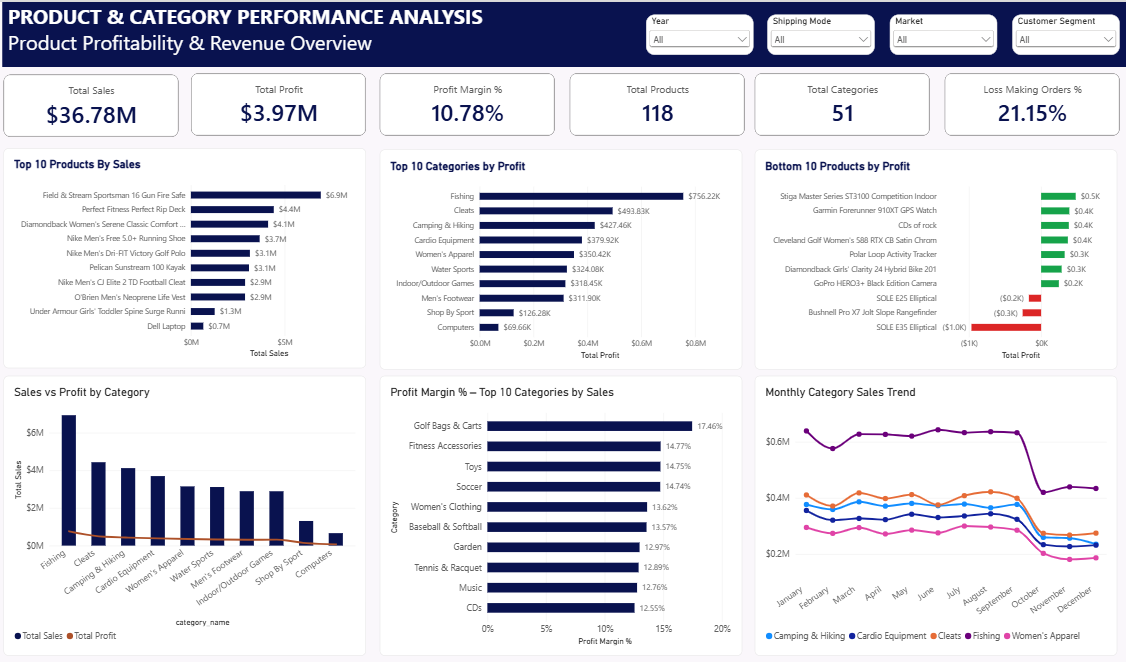

This screenshot's page, from the dashboard's own definition file:
{"tool":"powerbi","page":{"name":"Product & Category Performance","canvas":[1920,1080],"ordinal":2},"visuals":[{"type":"textbox","box":[10.8,0,1908.8,103.9],"z":0},{"type":"cardVisual","fields":{"Data":["supply_chain.Total Sales"]},"box":[11.1,115,280,100],"z":1000},{"type":"cardVisual","fields":{"Data":["supply_chain.Total Profit"]},"box":[311.6,114.7,280,100],"z":2000},{"type":"cardVisual","fields":{"Data":["supply_chain.Profit Margin %"]},"box":[614.6,114.7,280,100],"z":3000},{"type":"cardVisual","fields":{"Data":["supply_chain.Total Categories"]},"box":[1214.1,114.7,280,100],"z":4000},{"type":"cardVisual","fields":{"Data":["supply_chain.Loss_Making Orders %"]},"box":[1517.1,114.7,280,100],"z":5000},{"type":"cardVisual","fields":{"Data":["supply_chain.Total Products"]},"box":[917.6,114.7,280,100],"z":6000},{"type":"slicer","fields":{"Values":["supply_chain.Order Year"]},"box":[1041,19.5,172.3,64.6],"z":7000},{"type":"slicer","fields":{"Values":["supply_chain.shipping_mode"]},"box":[1233.6,19.5,172.3,64.6],"z":8000},{"type":"slicer","fields":{"Values":["supply_chain.market"]},"box":[1430.5,19.5,172.3,64.6],"z":9000},{"type":"slicer","fields":{"Values":["supply_chain.customer_segment"]},"box":[1625.3,19.5,172.3,64.6],"z":10000},{"type":"clusteredBarChart","title":"Top 10 Products By Sales","fields":{"Category":["supply_chain.product_name"],"Y":["supply_chain.Total Sales"]},"box":[11.6,234.8,579.7,352.2],"z":17001},{"type":"clusteredBarChart","title":"Top 10 Categories by Profit","fields":{"Category":["supply_chain.category_name"],"Y":["supply_chain.Total Profit"]},"box":[614.5,236.2,579.7,352.2],"z":17002},{"type":"clusteredBarChart","title":"\tBottom 10 Products by Profit","fields":{"Category":["supply_chain.product_name"],"Y":["supply_chain.Total Profit"]},"box":[1214.5,236.2,579.7,352.2],"z":17003},{"type":"lineClusteredColumnComboChart","title":"Sales vs Profit by Category","fields":{"Category":["supply_chain.category_name"],"Y":["supply_chain.Total Sales"],"Y2":["supply_chain.Total Profit"]},"box":[12.8,597.3,580.3,448],"z":17004},{"type":"clusteredBarChart","title":"Profit Margin % – Top 10 Categories by Sales","fields":{"Category":["supply_chain.category_name"],"Y":["supply_chain.Profit Margin %"]},"box":[614,597,580,448],"z":17005},{"type":"lineChart","title":"\tMonthly Category Sales Trend","fields":{"Category":["supply_chain.order_date_dateorders.Variation.Date Hierarchy.Year","supply_chain.order_date_dateorders.Variation.Date Hierarchy.Month"],"Series":["supply_chain.category_name"],"Y":["supply_chain.Total Sales"]},"box":[1214,597,580,448],"z":17006}]}

Visuals, with their boxes on the page's 1920x1080 design canvas (x1, y1, x2, y2). These are canvas units, not pixel positions in the 1126x662 screenshot, which may show the page scaled, cropped or inside an application window:
textbox: {"x1": 11, "y1": 0, "x2": 1920, "y2": 104}
cardVisual - supply_chain.Total Sales: {"x1": 11, "y1": 115, "x2": 291, "y2": 215}
cardVisual - supply_chain.Total Profit: {"x1": 312, "y1": 115, "x2": 592, "y2": 215}
cardVisual - supply_chain.Profit Margin %: {"x1": 615, "y1": 115, "x2": 895, "y2": 215}
cardVisual - supply_chain.Total Categories: {"x1": 1214, "y1": 115, "x2": 1494, "y2": 215}
cardVisual - supply_chain.Loss_Making Orders %: {"x1": 1517, "y1": 115, "x2": 1797, "y2": 215}
cardVisual - supply_chain.Total Products: {"x1": 918, "y1": 115, "x2": 1198, "y2": 215}
slicer - supply_chain.Order Year: {"x1": 1041, "y1": 20, "x2": 1213, "y2": 84}
slicer - supply_chain.shipping_mode: {"x1": 1234, "y1": 20, "x2": 1406, "y2": 84}
slicer - supply_chain.market: {"x1": 1430, "y1": 20, "x2": 1603, "y2": 84}
slicer - supply_chain.customer_segment: {"x1": 1625, "y1": 20, "x2": 1798, "y2": 84}
"Top 10 Products By Sales" clusteredBarChart: {"x1": 12, "y1": 235, "x2": 591, "y2": 587}
"Top 10 Categories by Profit" clusteredBarChart: {"x1": 614, "y1": 236, "x2": 1194, "y2": 588}
"	Bottom 10 Products by Profit" clusteredBarChart: {"x1": 1214, "y1": 236, "x2": 1794, "y2": 588}
"Sales vs Profit by Category" lineClusteredColumnComboChart: {"x1": 13, "y1": 597, "x2": 593, "y2": 1045}
"Profit Margin % – Top 10 Categories by Sales" clusteredBarChart: {"x1": 614, "y1": 597, "x2": 1194, "y2": 1045}
"	Monthly Category Sales Trend" lineChart: {"x1": 1214, "y1": 597, "x2": 1794, "y2": 1045}
